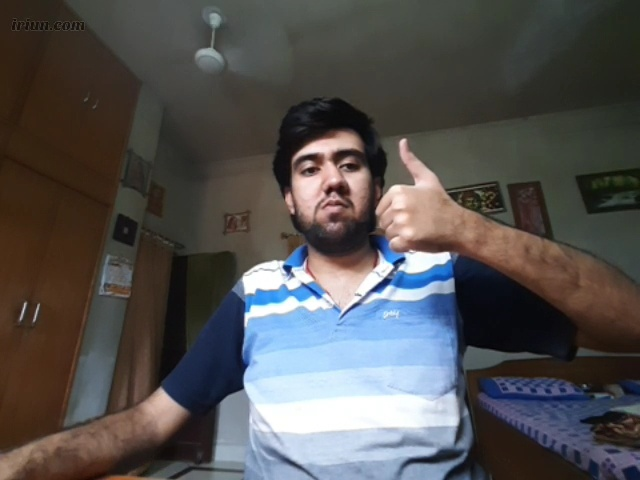Ok: (375, 138, 460, 254)
